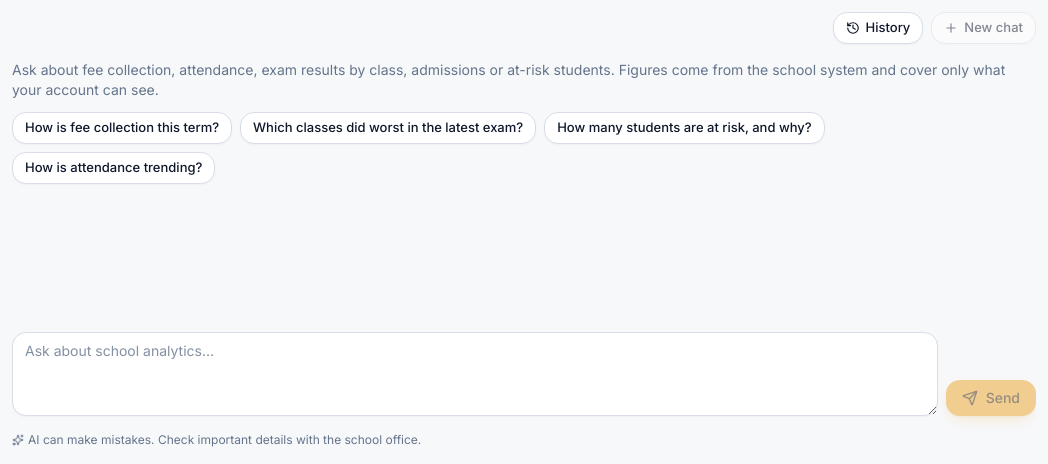
Ask School AI answering from the guide › does not use the guide for the admin analytics assistant
Type "how do I add a student" into the text box named "Message". click: coordinates (475, 374)
box: [12,332,938,416]
Then press Enter
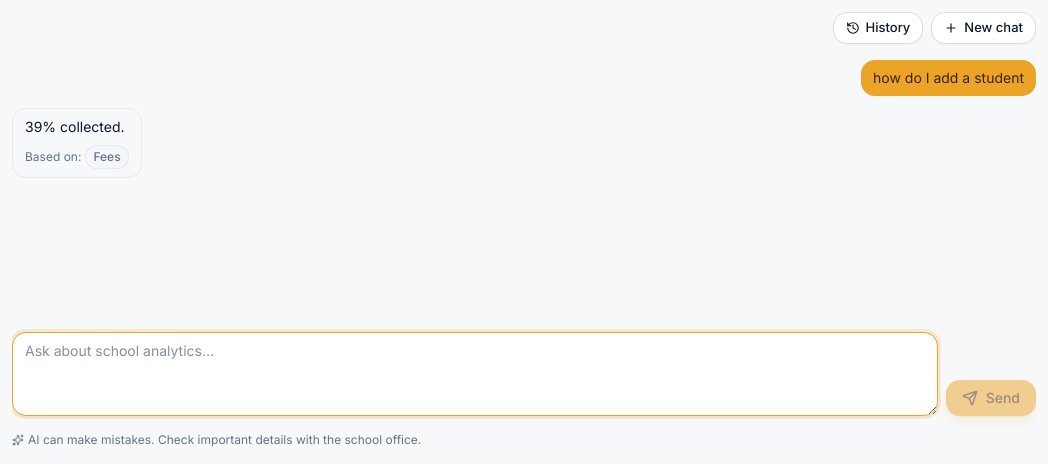
Check: the text "39% collected." is shown, box [25,117,129,137]
